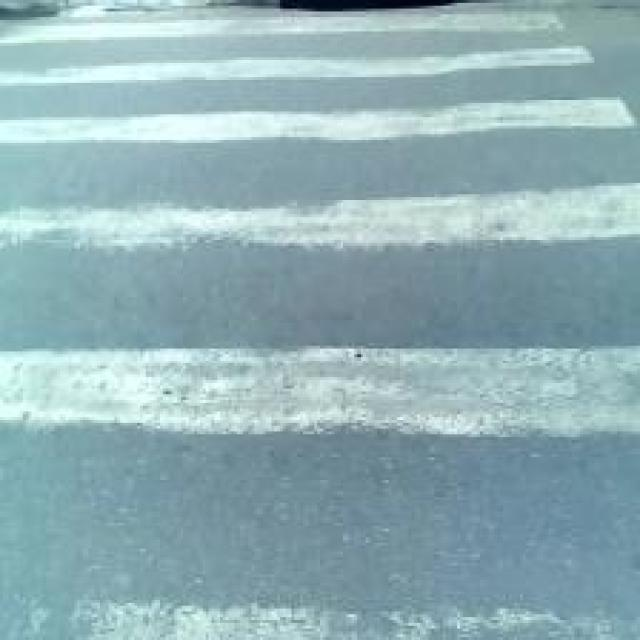walk-crossing: (3, 14, 640, 640)
